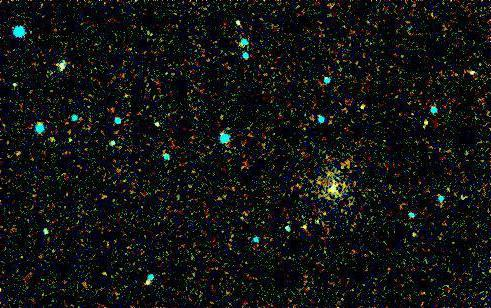star: (411, 107, 441, 137)
